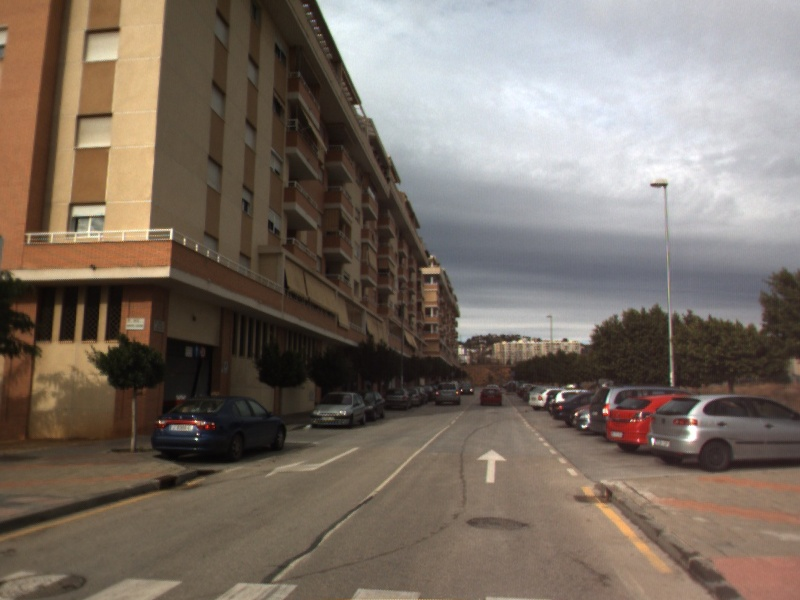STRAIGHT: (474, 447, 509, 485)
